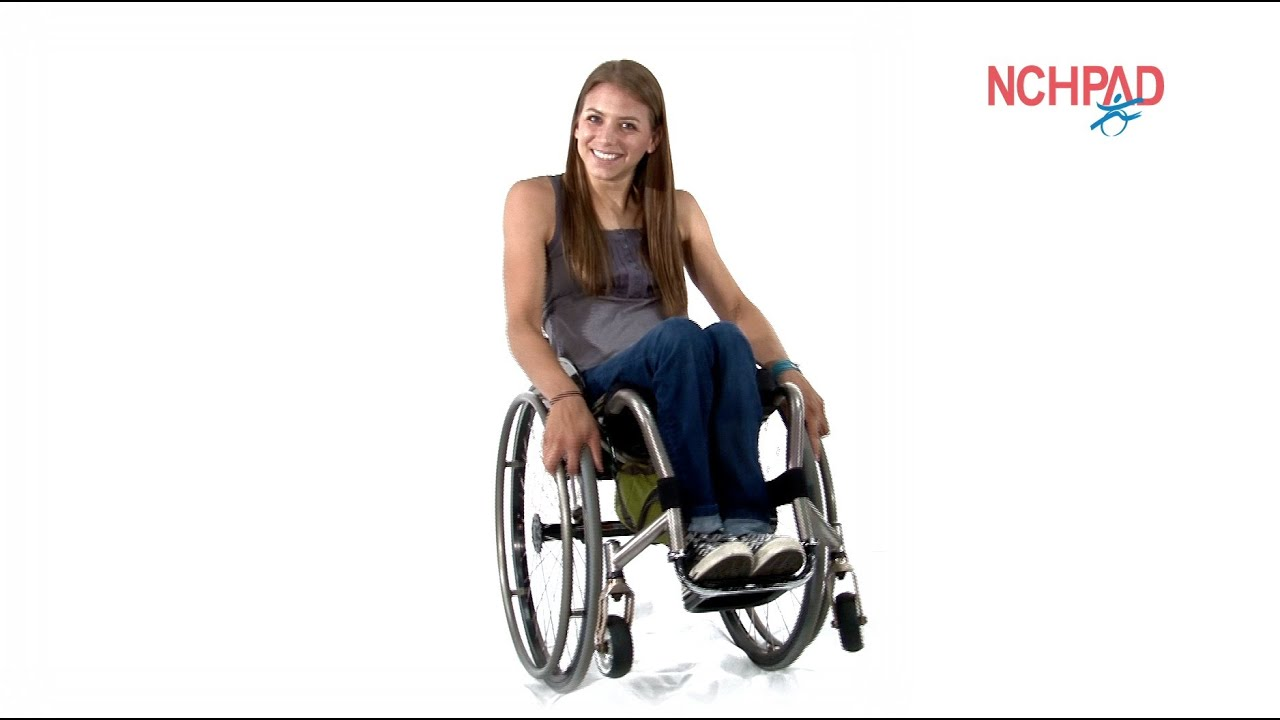wheelchair: (493, 58, 864, 687)
